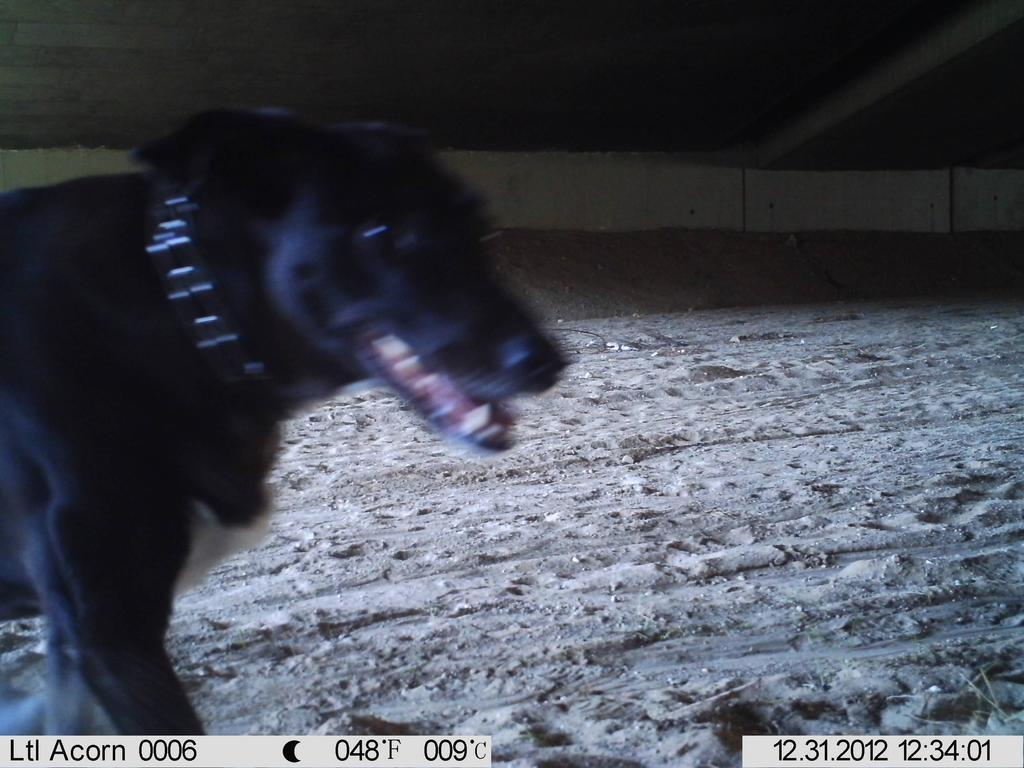dog: (3, 91, 567, 737)
